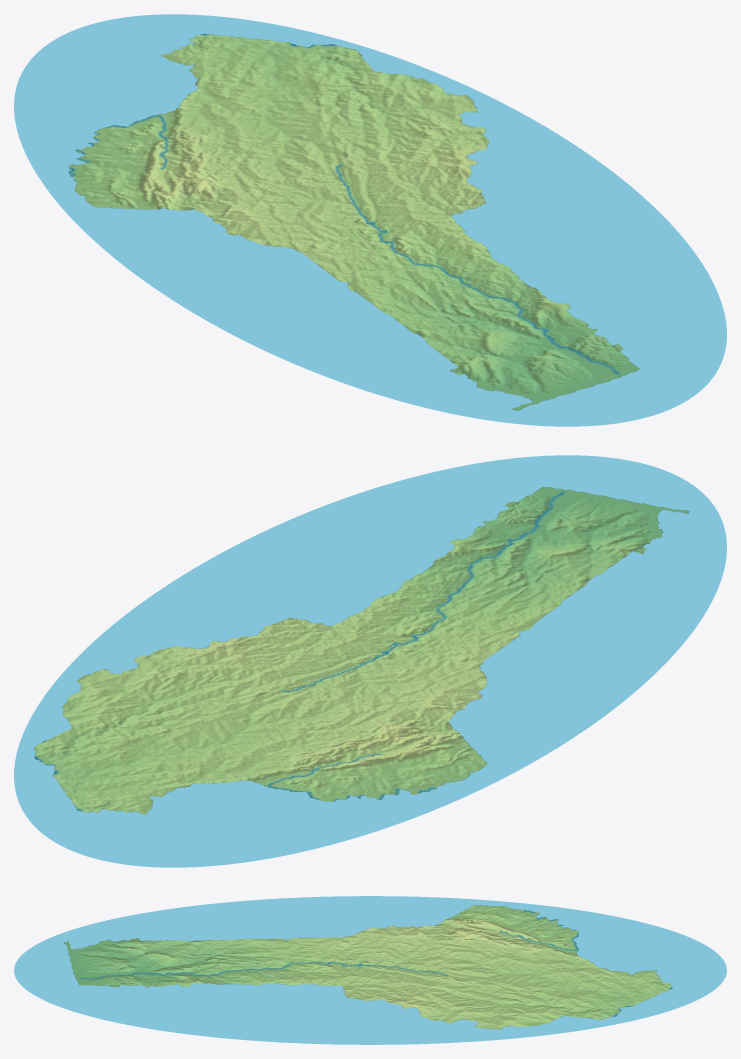
The model's file is BEN-terrain.glb.
The picture shows the model from 3 angles, top to bottom: view 1: azimuth 30°, elevation 25°; view 2: azimuth 150°, elevation 25°; view 3: azimuth 270°, elevation 25°; orthographic projection. The views are drawn at different scales.
Parts seen in each view (by area): view 1: Relevo com hidrografia; view 2: Relevo com hidrografia; view 3: Relevo com hidrografia.
Boxes of the visible parts, bbox=[...] form: Relevo com hidrografia: bbox=[14, 14, 726, 426]; Relevo com hidrografia: bbox=[14, 455, 726, 867]; Relevo com hidrografia: bbox=[14, 896, 726, 1044].
Size of the model in its own units: 0.9305 by 0.0186 by 1.88.
Materials: 2 (1 with a texture image).
